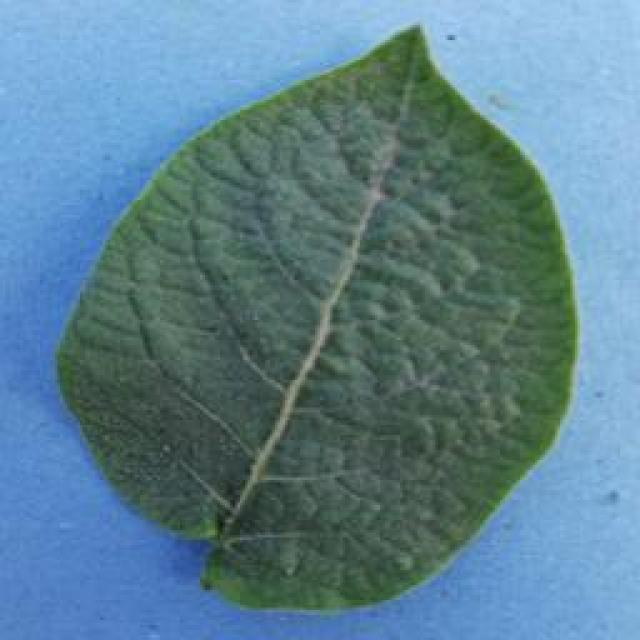Potato_Healthy: (54, 19, 576, 608)
